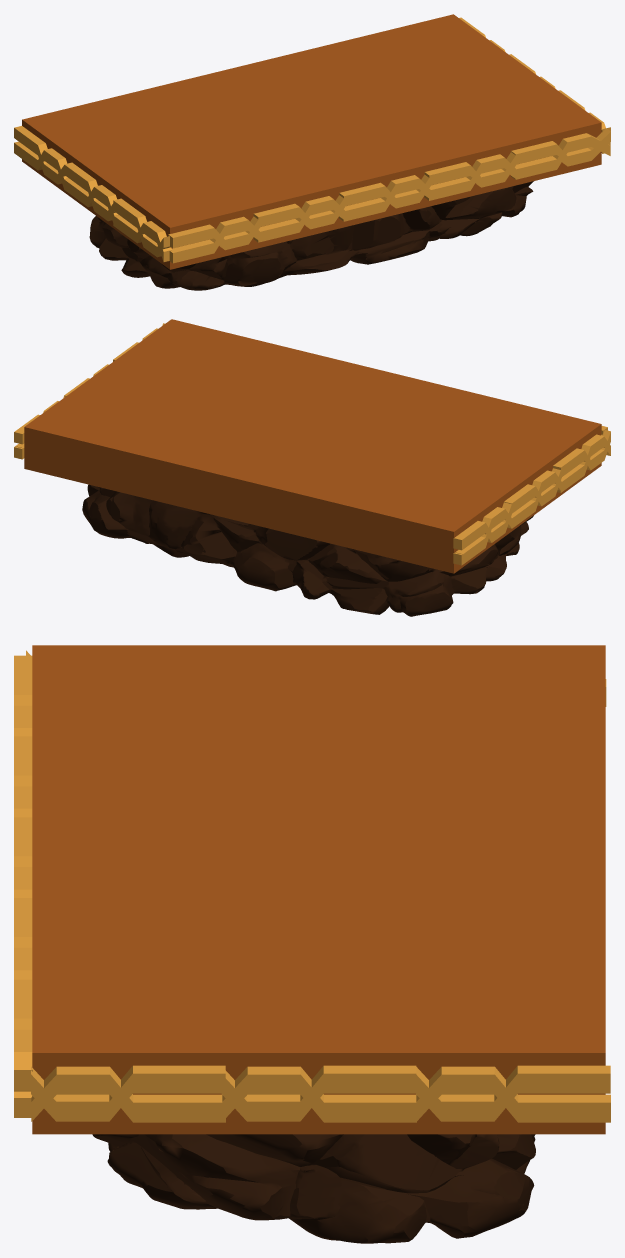
The model's file is Platforme2.fbx.
The picture shows the model from 3 angles, top to bottom: view 1: azimuth 30°, elevation 25°; view 2: azimuth 150°, elevation 25°; view 3: azimuth 270°, elevation 25°; orthographic projection. The views are drawn at different scales.
Visible parts, largest first — view 1: Cube.010, Cube.017, RocherRectangle.005; view 2: Cube.010, RocherRectangle.005, Cube.017; view 3: Cube.010, Cube.017, RocherRectangle.005.
Part boxes in pixels (box(x1,y1,x2,y2)): Cube.010: box(22, 14, 601, 269); Cube.017: box(14, 17, 610, 263); RocherRectangle.005: box(89, 181, 533, 290); Cube.010: box(24, 319, 601, 573); RocherRectangle.005: box(82, 484, 533, 616); Cube.017: box(14, 323, 610, 565); Cube.010: box(32, 645, 605, 1134); Cube.017: box(14, 650, 610, 1122); RocherRectangle.005: box(92, 1134, 535, 1243).
Bounding box in the file's own units: 972 × 251 × 579.
